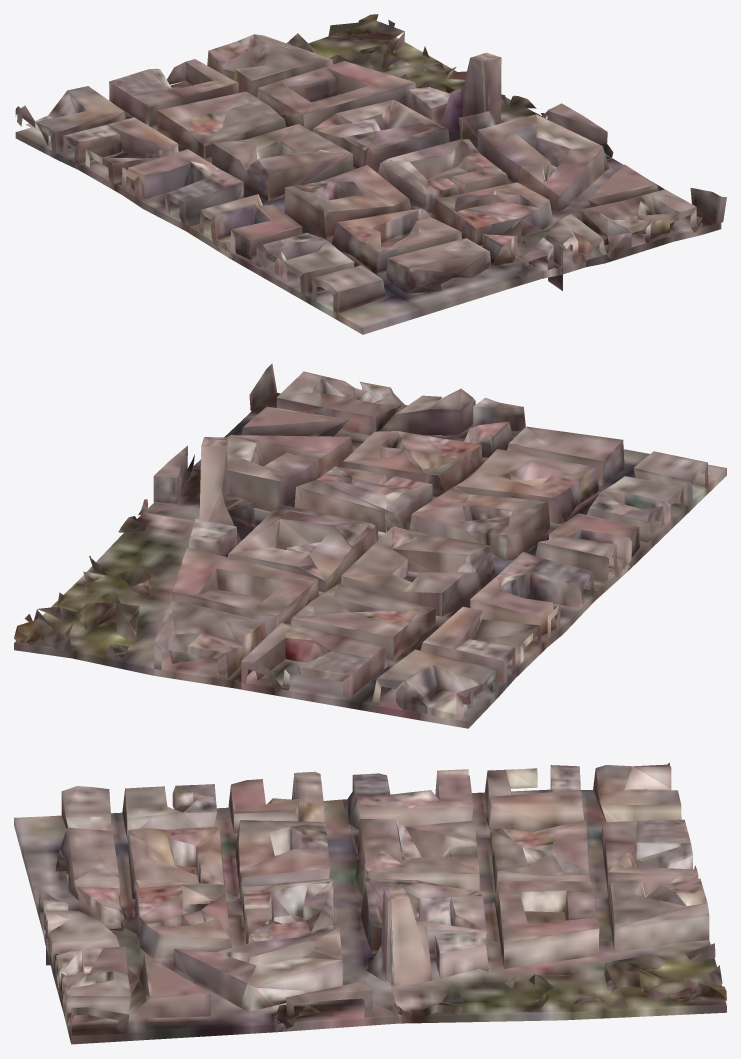
The picture shows the model from 3 angles, top to bottom: view 1: azimuth 30°, elevation 25°; view 2: azimuth 150°, elevation 25°; view 3: azimuth 270°, elevation 25°; orthographic projection. The views are drawn at different scales.
Visible parts, largest first — view 1: Mesh_0; view 2: Mesh_0; view 3: Mesh_0.
Boxes of the visible parts, x1,y1,x2,y2 form: Mesh_0: (15, 14, 726, 334); Mesh_0: (14, 363, 726, 728); Mesh_0: (14, 762, 726, 1044).
Bounding box in the file's own units: 542 × 119 × 659.
2 materials, 2 textured.
